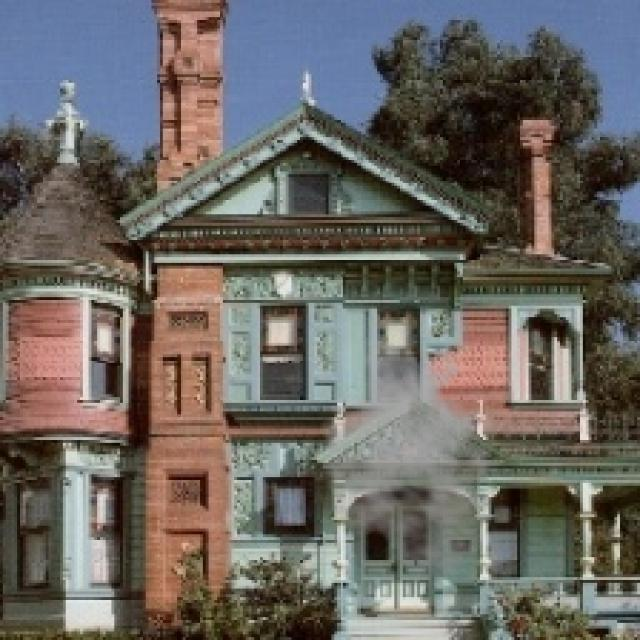smoke: (312, 337, 514, 580)
